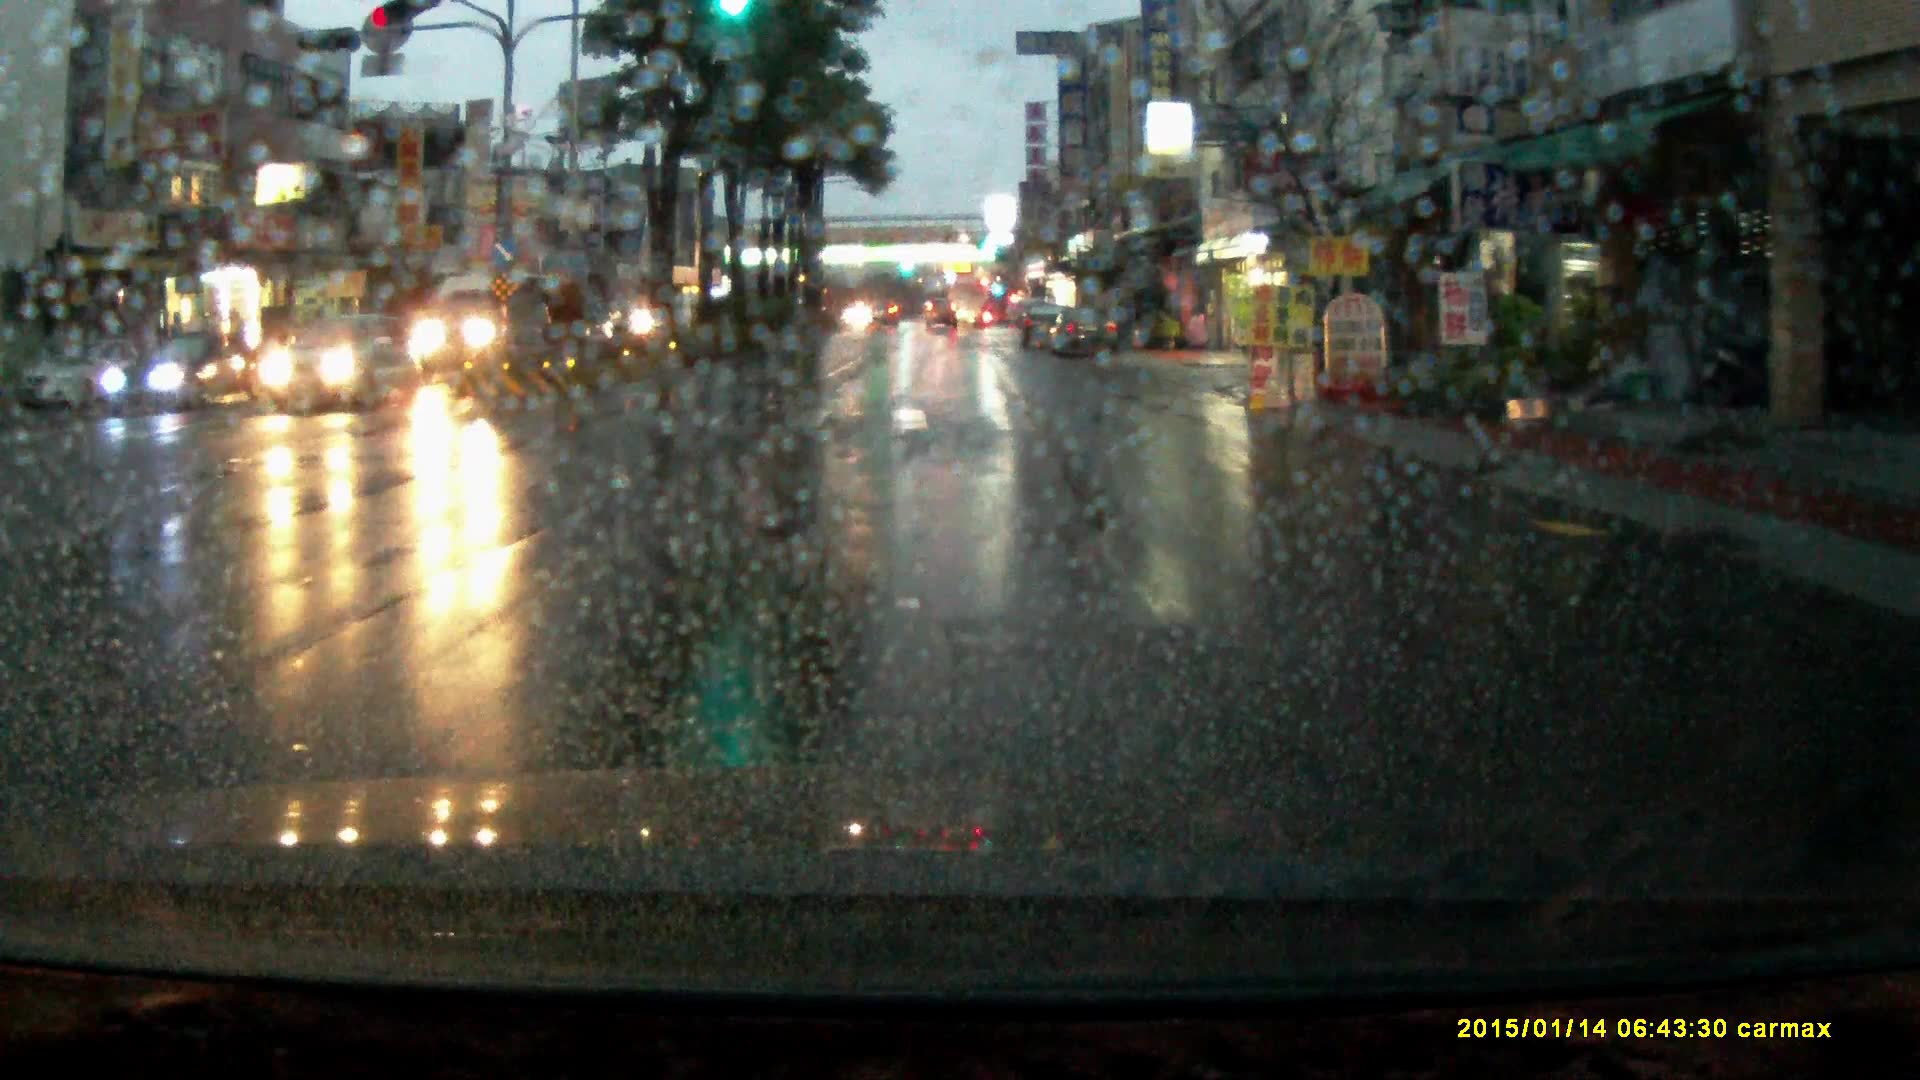vehicle: (257, 318, 421, 417), (415, 266, 549, 386), (84, 332, 236, 415), (22, 334, 146, 410), (1050, 307, 1122, 360), (1019, 305, 1068, 353), (949, 274, 988, 330), (926, 298, 959, 334), (864, 298, 899, 330)
